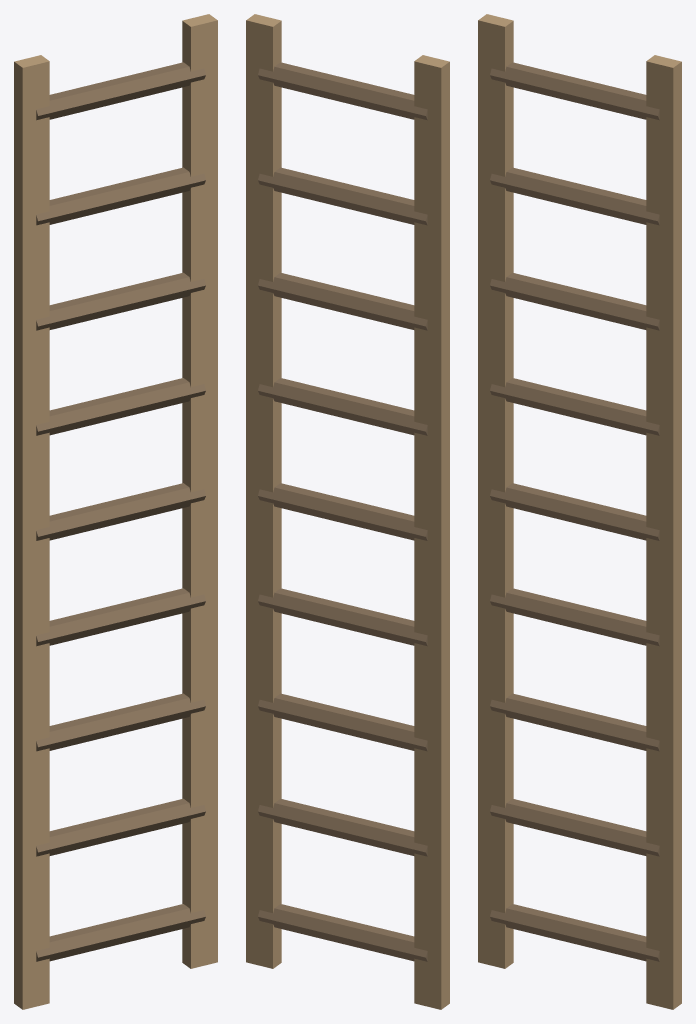
File: rig_ladder_3m.glb
3 views of the same model, side by side, from view 1: azimuth 30°, elevation 25°; view 2: azimuth 150°, elevation 25°; view 3: azimuth 330°, elevation 25° (orthographic).
Visible parts, largest first — view 1: rig_ladder_3m; view 2: rig_ladder_3m; view 3: rig_ladder_3m.
Boxes of the visible parts, x1=… form: rig_ladder_3m: x1=14, y1=14, x2=217, y2=1009; rig_ladder_3m: x1=246, y1=14, x2=449, y2=1009; rig_ladder_3m: x1=478, y1=14, x2=681, y2=1009.
Bounding box in the file's own units: 0.65 × 3 × 0.07.
